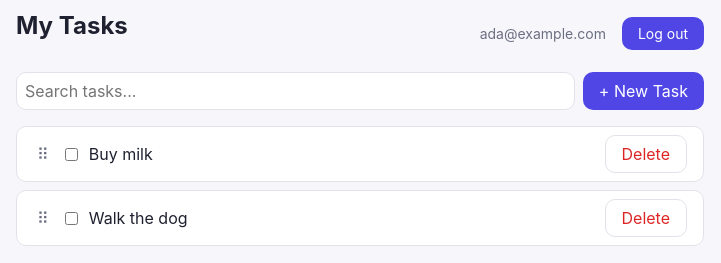
it: TaskListPage › shows a search-specific empty state instead of the "create your first one" message
The image size is (721, 263).
Expected: the link "Buy milk" is shown, [89,144,153,164]
Type "zzz-no-match" into the search field labelled "Search tasks". click: (295, 91)
box: [16,72,575,110]
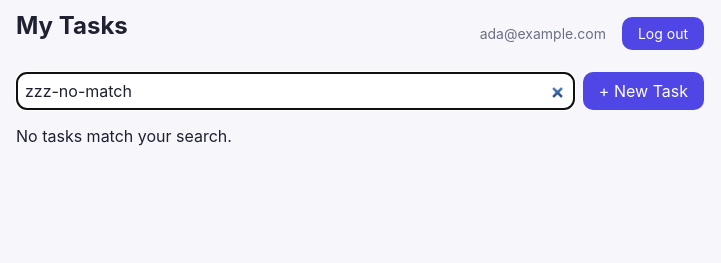
Expected: the text "No tasks match your search." is shown, [16,126,232,146]
